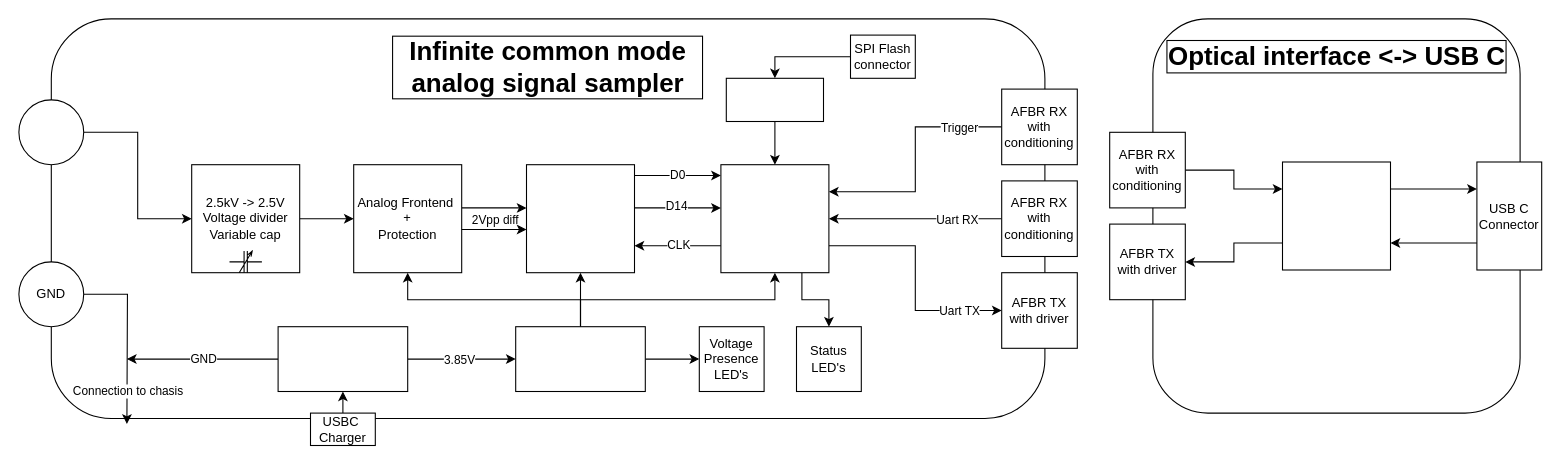
This 1561x464 diagram has some shape labels left out. Each missing label, with the centre of its shape:
3.3V LDO 2.5V LDO 1.2V LDO: (x=580, y=359)
Input 0 to -2.5kV: (x=51, y=132)
Lattice ICE40UP5K-SG48I: (x=774, y=218)
Lion flat battery pack with bms: (x=342, y=359)
LTC2254 14bit - 105Msps Paraller protocol: (x=579, y=218)
SPI Flash: (x=774, y=99)
USB to UART Bridge: (x=1335, y=215)
